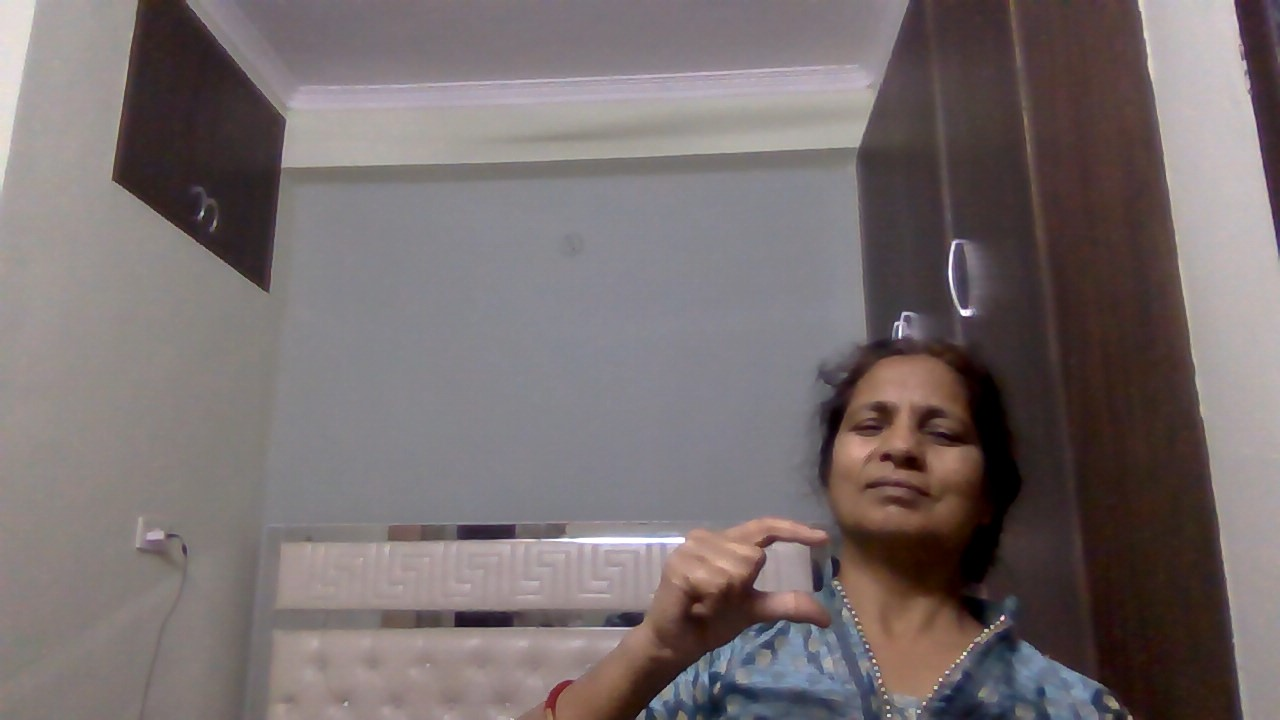Paste: (639, 514, 865, 681)
